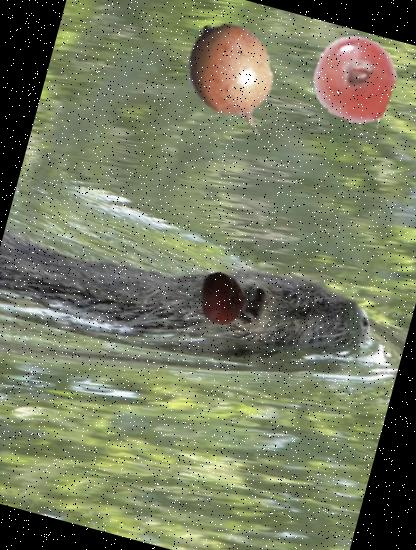Granadilla: (160, 7, 308, 156)
Nectarine: (190, 266, 254, 331)
Redcurrant: (300, 26, 408, 133)
